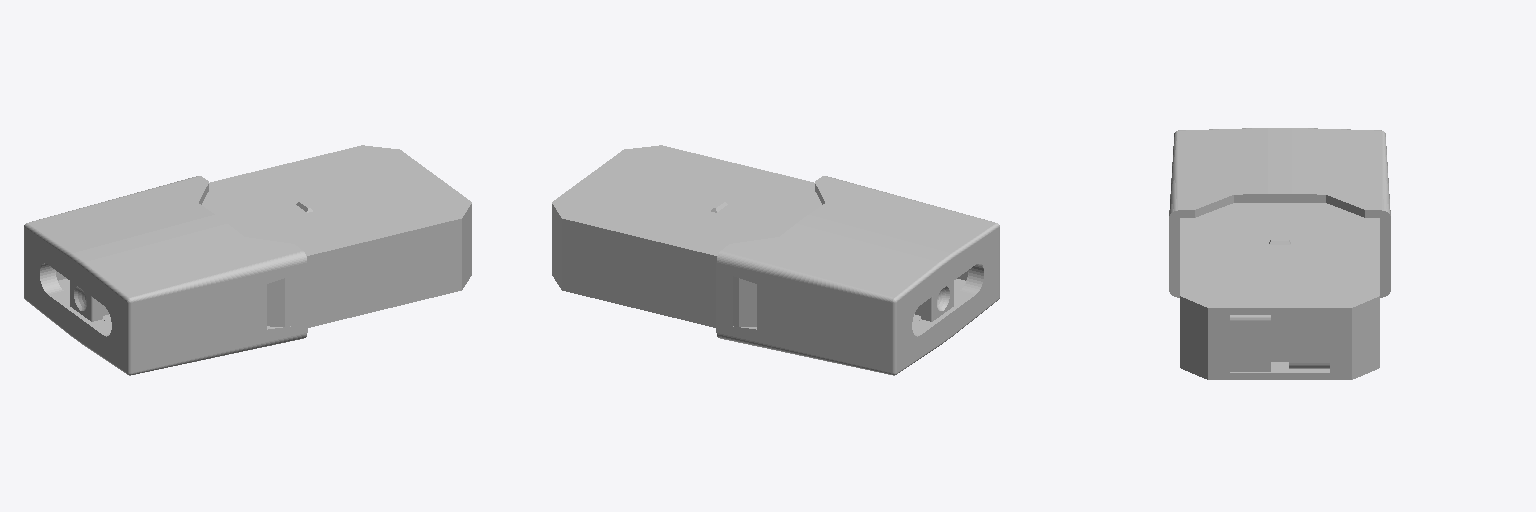
File: JUUL - POD.obj
3 renders of one model, left to right at view 1: azimuth 30°, elevation 25°; view 2: azimuth 150°, elevation 25°; view 3: azimuth 270°, elevation 25°, orthographic.
Visible parts, largest first — view 1: POD CAP 2, POD TANK; view 2: POD CAP 2, POD TANK; view 3: POD TANK, POD CAP 2, POD CONNECTOR.
Part boxes in pixels (x1,y1,x2,y2): POD CAP 2: (24,176,307,375); POD TANK: (202,145,471,327); POD CAP 2: (716,176,999,375); POD TANK: (552,145,821,327); POD TANK: (1180,203,1379,379); POD CAP 2: (1169,128,1390,297); POD CONNECTOR: (1230,315,1329,371).
Bounding box in the file's own units: 28.57 × 6.88 × 15.24.